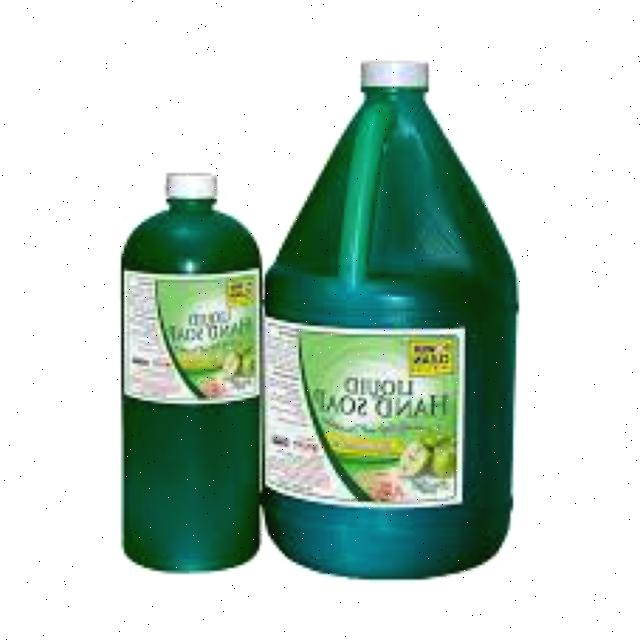liquid soap: (262, 56, 524, 591), (112, 171, 264, 591)
